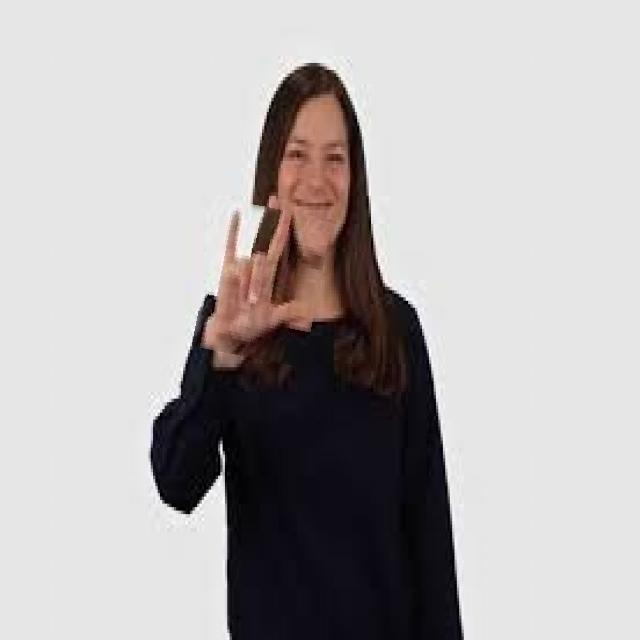I Love You: (198, 202, 326, 362)
